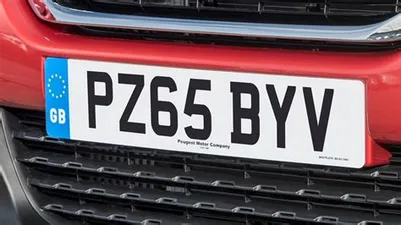number_plate: (37, 53, 379, 173)
